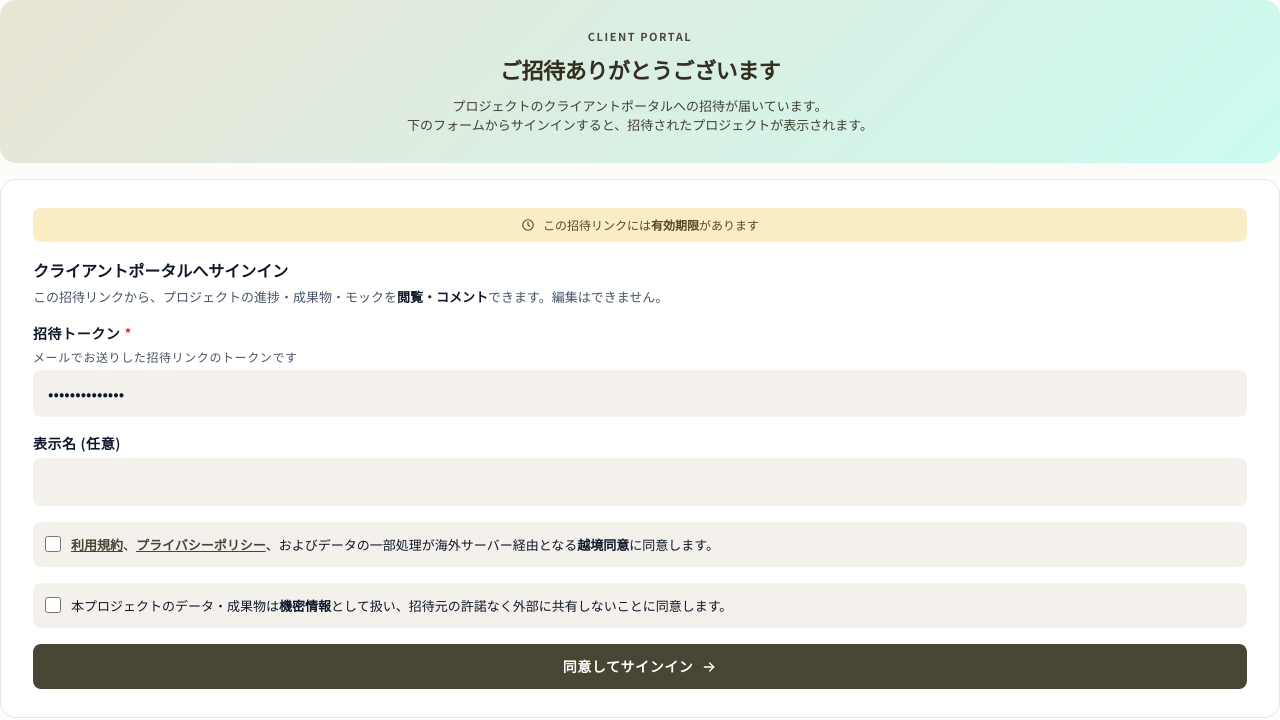
S-L02 ClientSigninContainer (T-UC-21) › shows an invalid-token message on 401
This screenshot has width=1280, height=720.
Click the 1st checkbox.
click(53, 544)  # box [45,536,61,552]
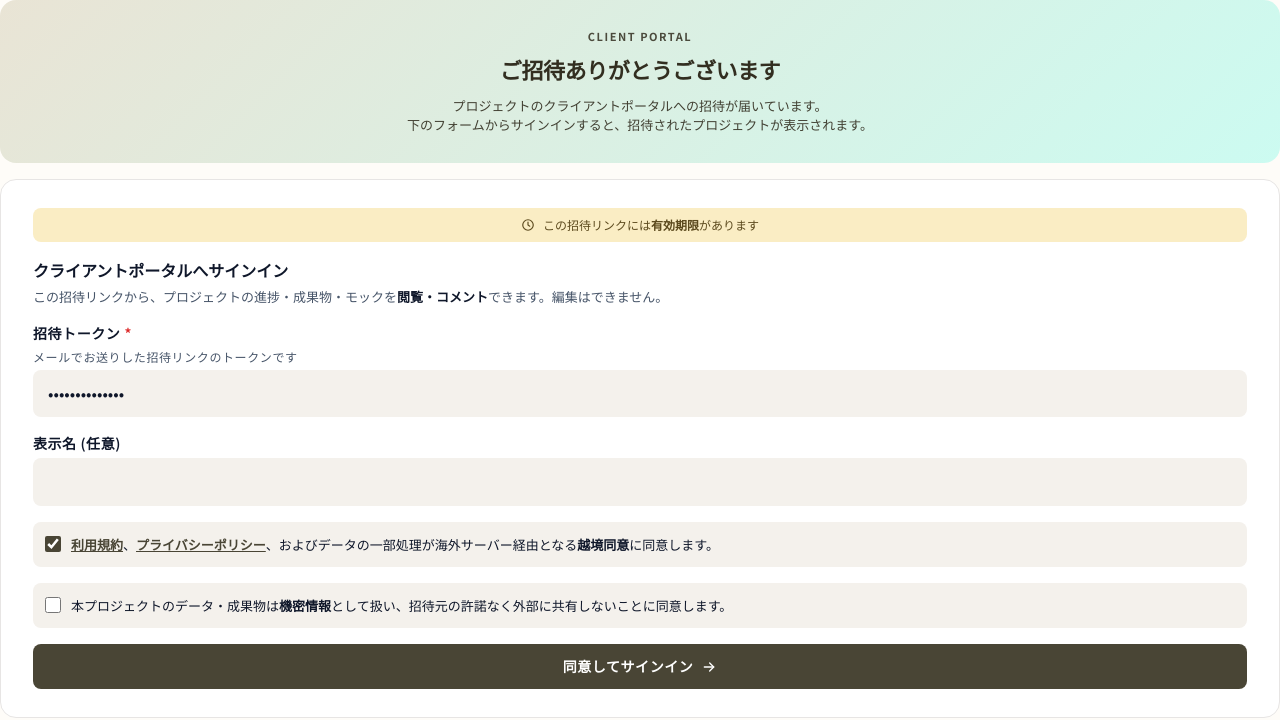
Click the 2nd checkbox.
click(53, 605)  # box [45,597,61,613]
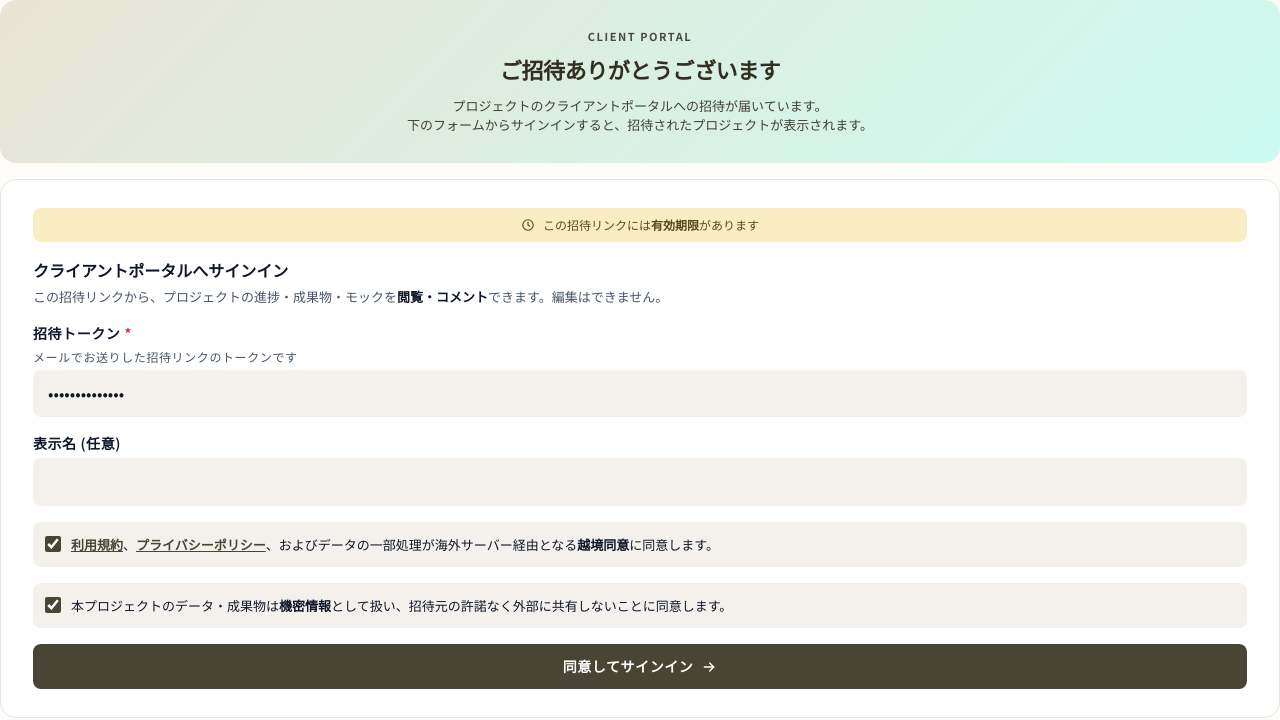
Click the button "同意してサインイン".
click(640, 667)  # box [33,644,1247,689]
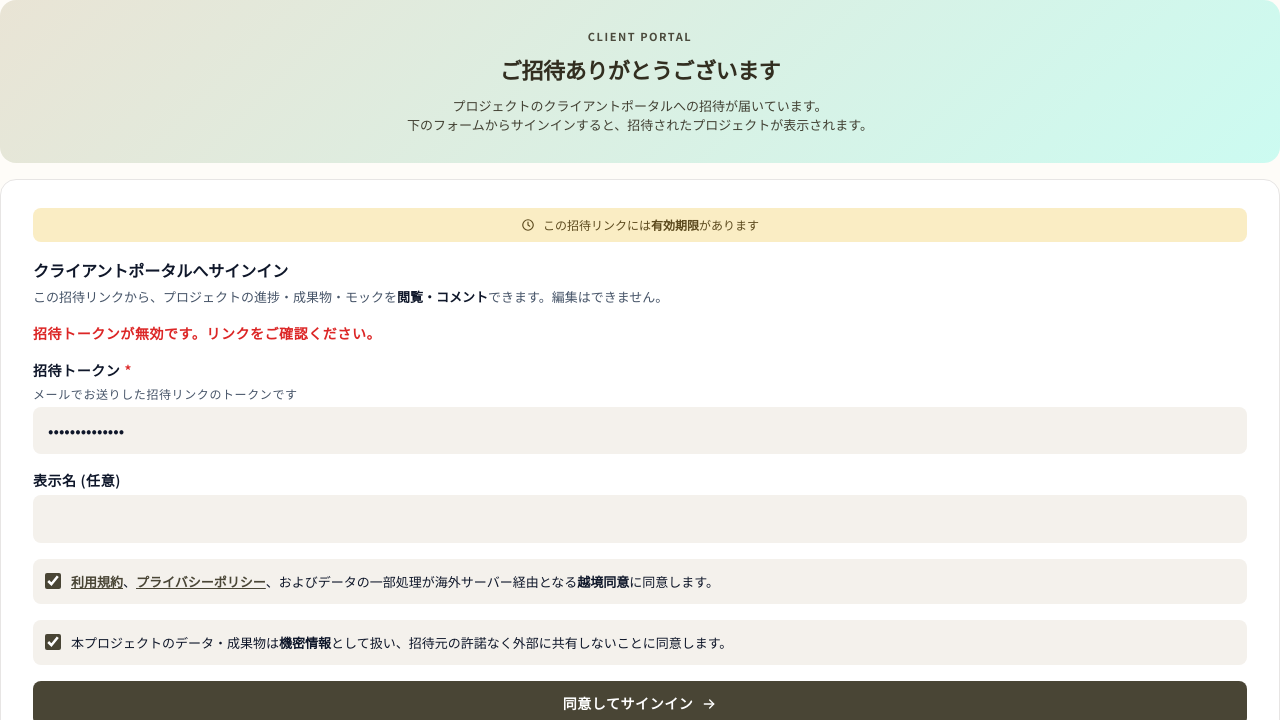
Expected: the message shows "招待トークンが無効です", [33,323,381,343]
